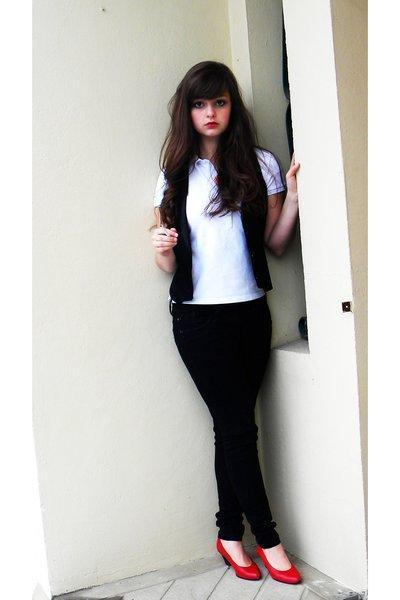jacket: (159, 191, 272, 309)
pants: (170, 300, 280, 548)
shirt: (183, 156, 299, 303)
shoe: (217, 540, 304, 584)
